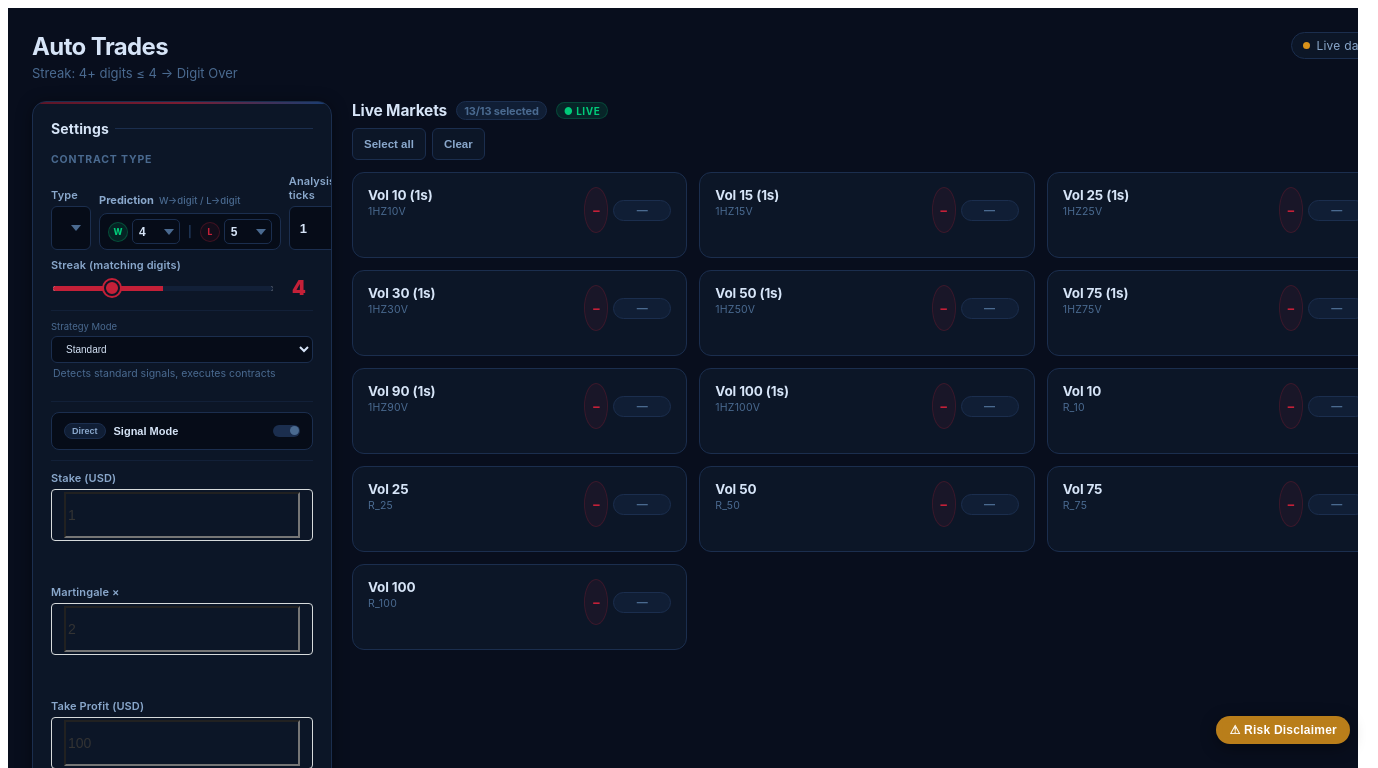
Scenario: <AutoTrades /> › allows removing markets directly from market cards
This screenshot has width=1378, height=768.
# Click the first remove button
Click the button titled "Remove from Auto Trades" next to "Vol 10 (1s)": (596, 210) [584,187,608,233]
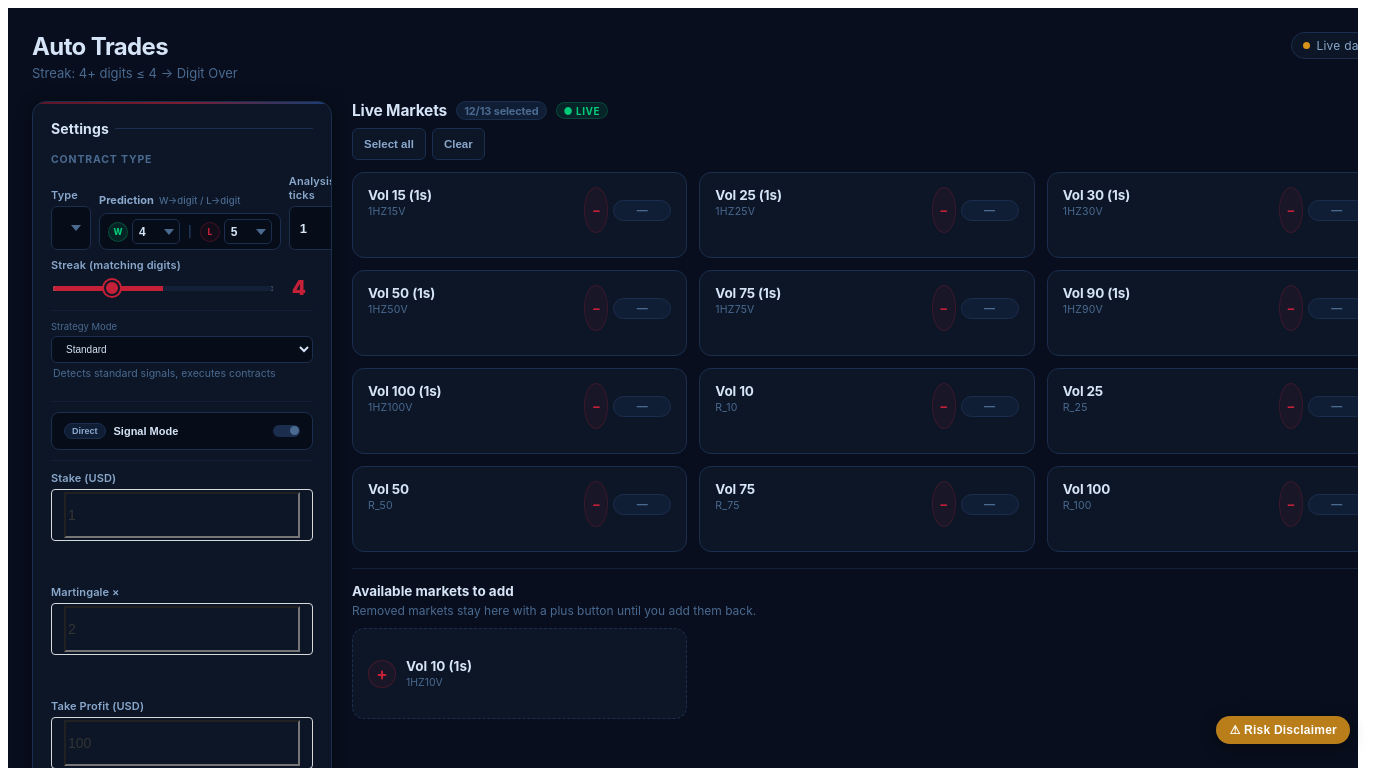
Expected: the text "12/13 selected" is shown, [456,101,546,120]
